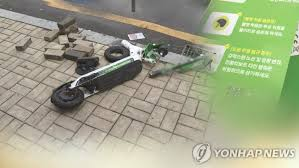kick_wheel: (52, 85, 84, 107)
